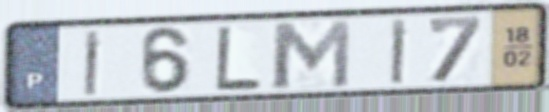6: (139, 25, 195, 96)
7: (425, 13, 486, 86)
I: (81, 28, 104, 99), (388, 17, 411, 87)
L: (212, 23, 264, 92)
M: (268, 17, 354, 91)
